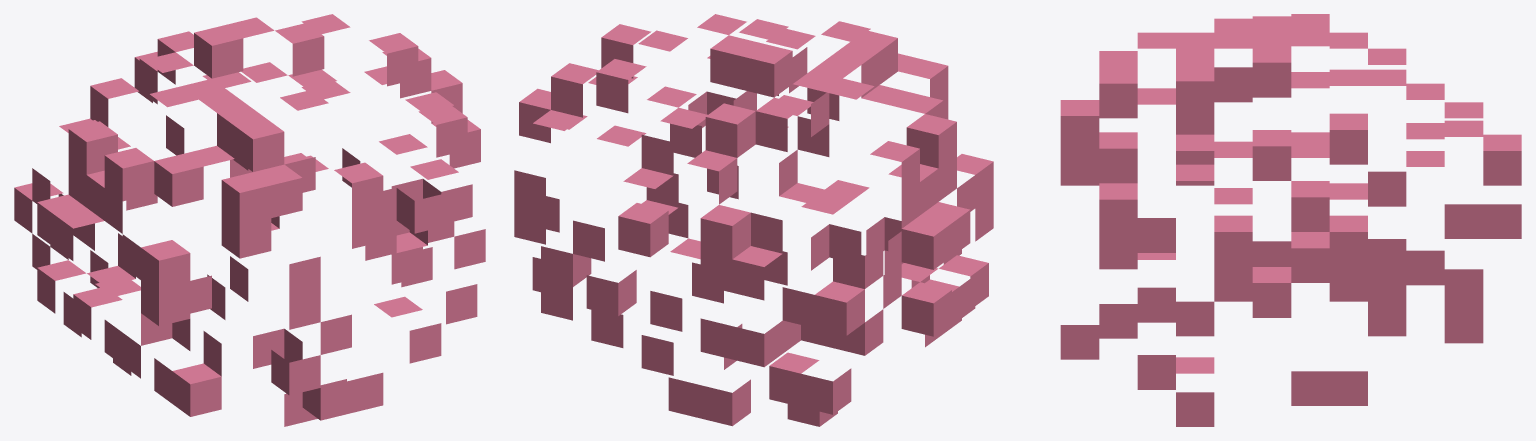
Rendered from tree-cherry-1-pink2-e77fa0.gltf.
The picture shows the model from 3 angles, left to right: view 1: azimuth 30°, elevation 25°; view 2: azimuth 150°, elevation 25°; view 3: azimuth 270°, elevation 25°; orthographic projection. The views are drawn at different scales.
Visible parts, largest first — view 1: tree-cherry-1-pink2-e77fa0; view 2: tree-cherry-1-pink2-e77fa0; view 3: tree-cherry-1-pink2-e77fa0.
Boxes of the visible parts, <box> form: tree-cherry-1-pink2-e77fa0: <box>14,14,485,426</box>; tree-cherry-1-pink2-e77fa0: <box>514,14,993,426</box>; tree-cherry-1-pink2-e77fa0: <box>1060,14,1521,426</box>.
Size of the model in its own units: 13 by 10 by 13.
